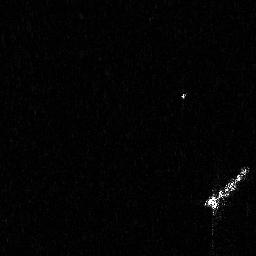ship: (198, 166, 249, 219)
